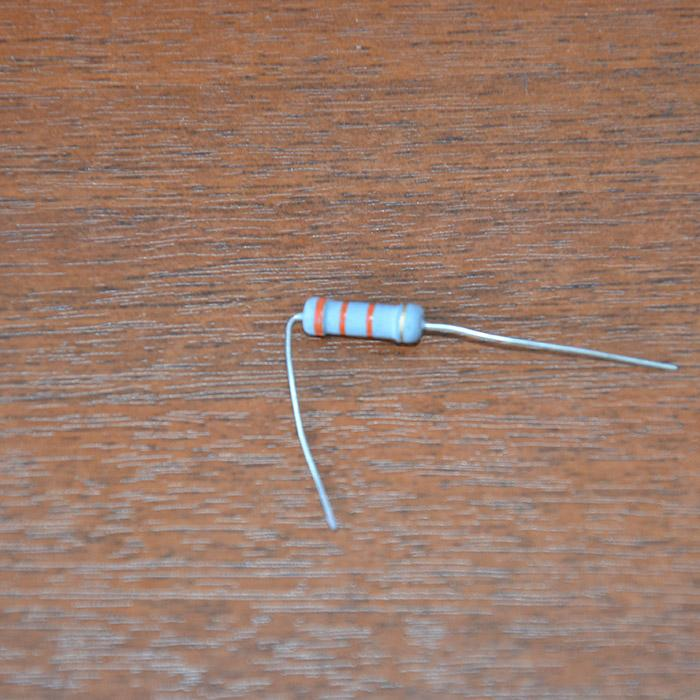resistor: (299, 295, 423, 345)
